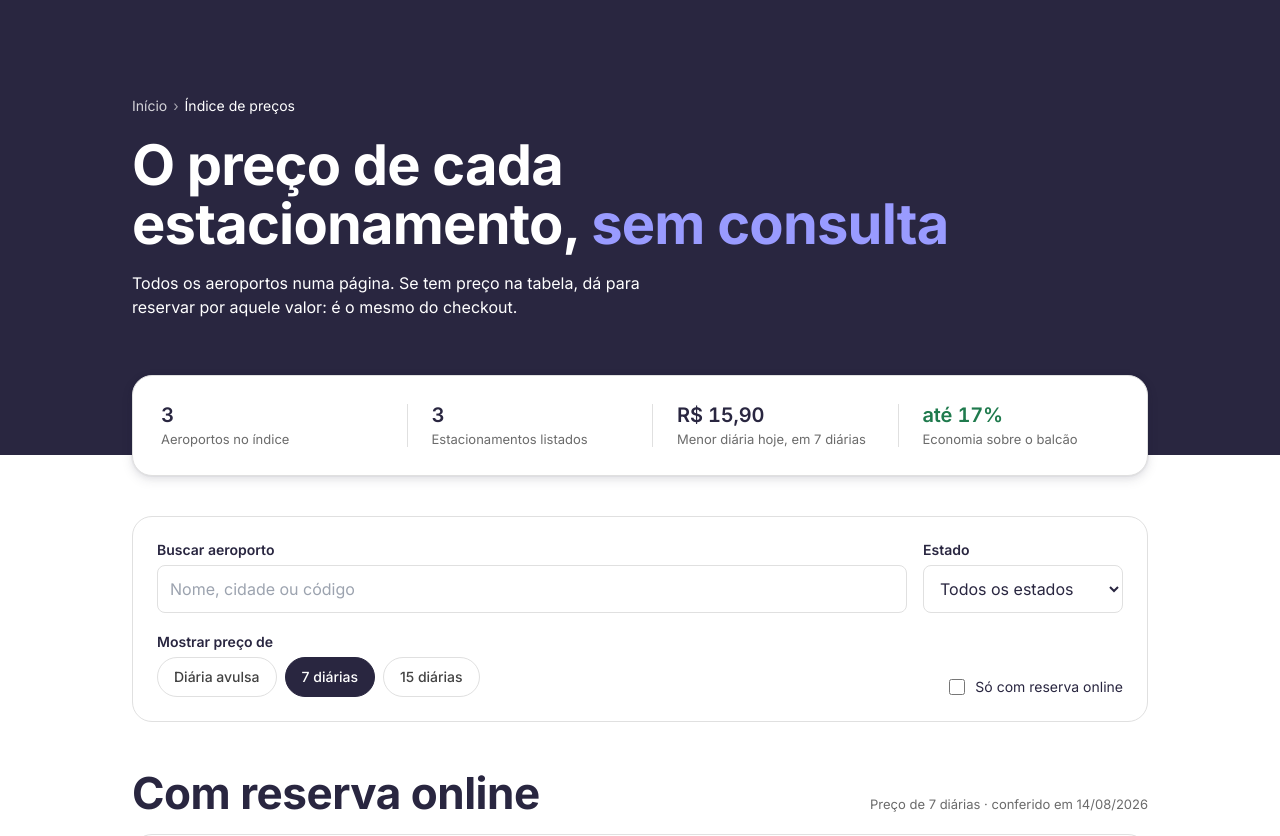
PrecosPage › a busca filtra os aeroportos, sem acento, e o limpar restaura
Step 1. Type "sao paulo" into the search field labelled "Buscar aeroporto" → coordinates (532, 589), box [157,565,907,613]
(page scrolled)
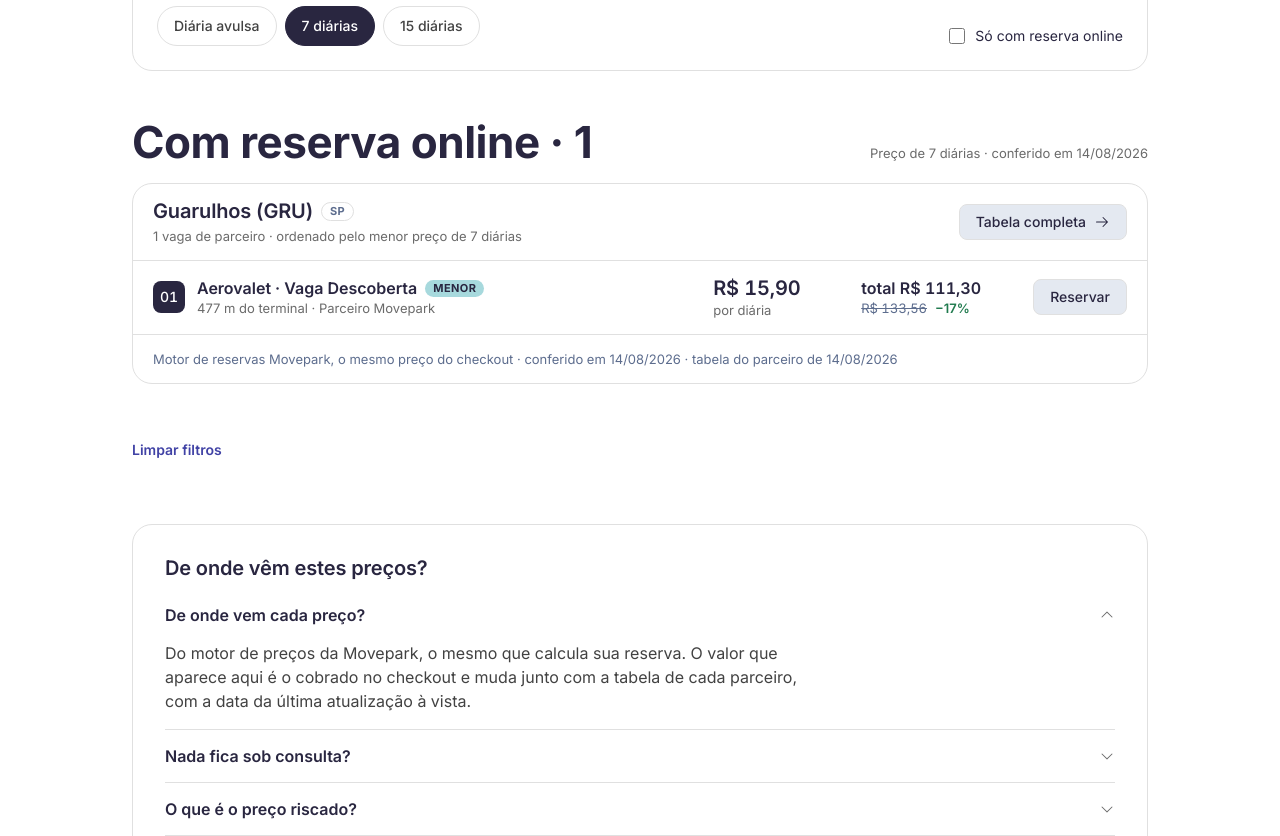
expect the heading "Guarulhos (GRU) SP" is shown: met, box [153,199,354,223]
Step 2. Click the button "Limpar filtros" → coordinates (177, 450), box [132,440,222,460]
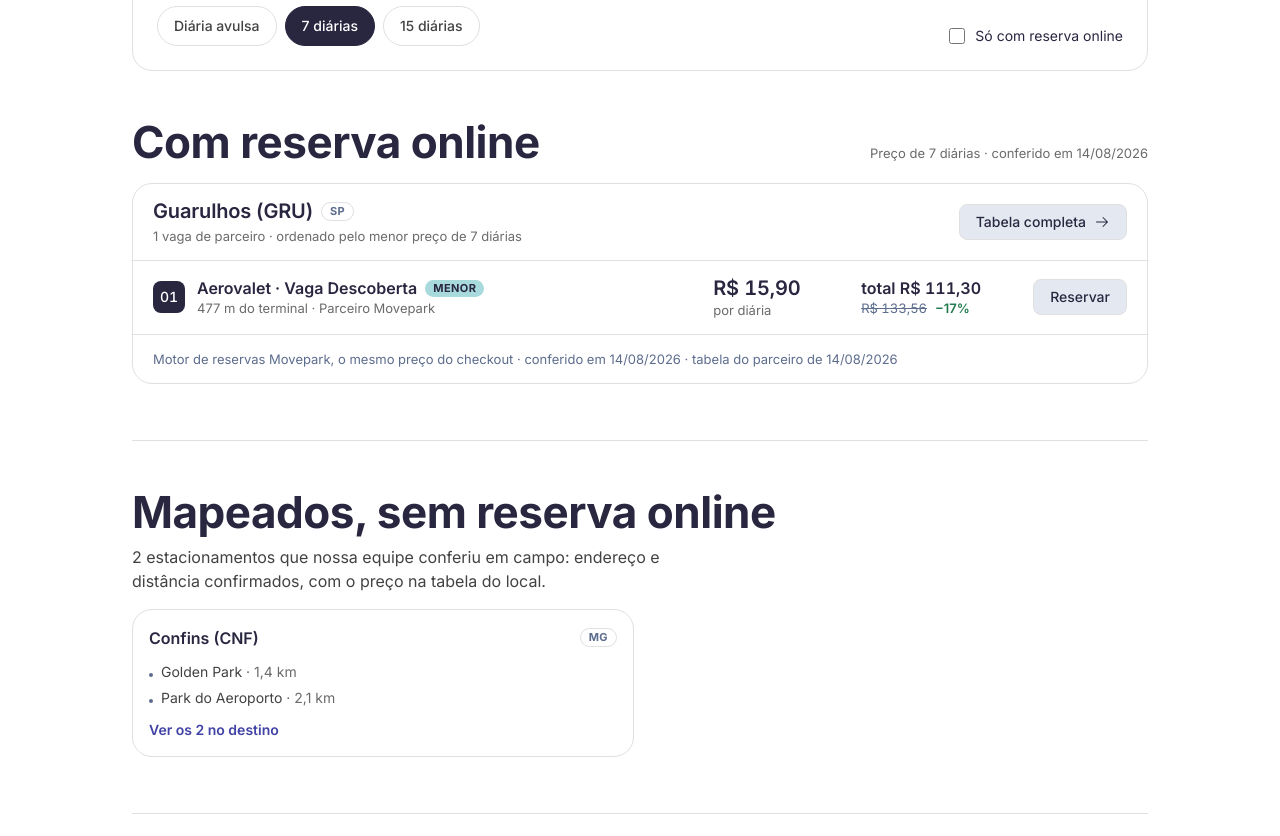
expect the heading "Confins (CNF)" is shown: met, box [149,626,259,650]
